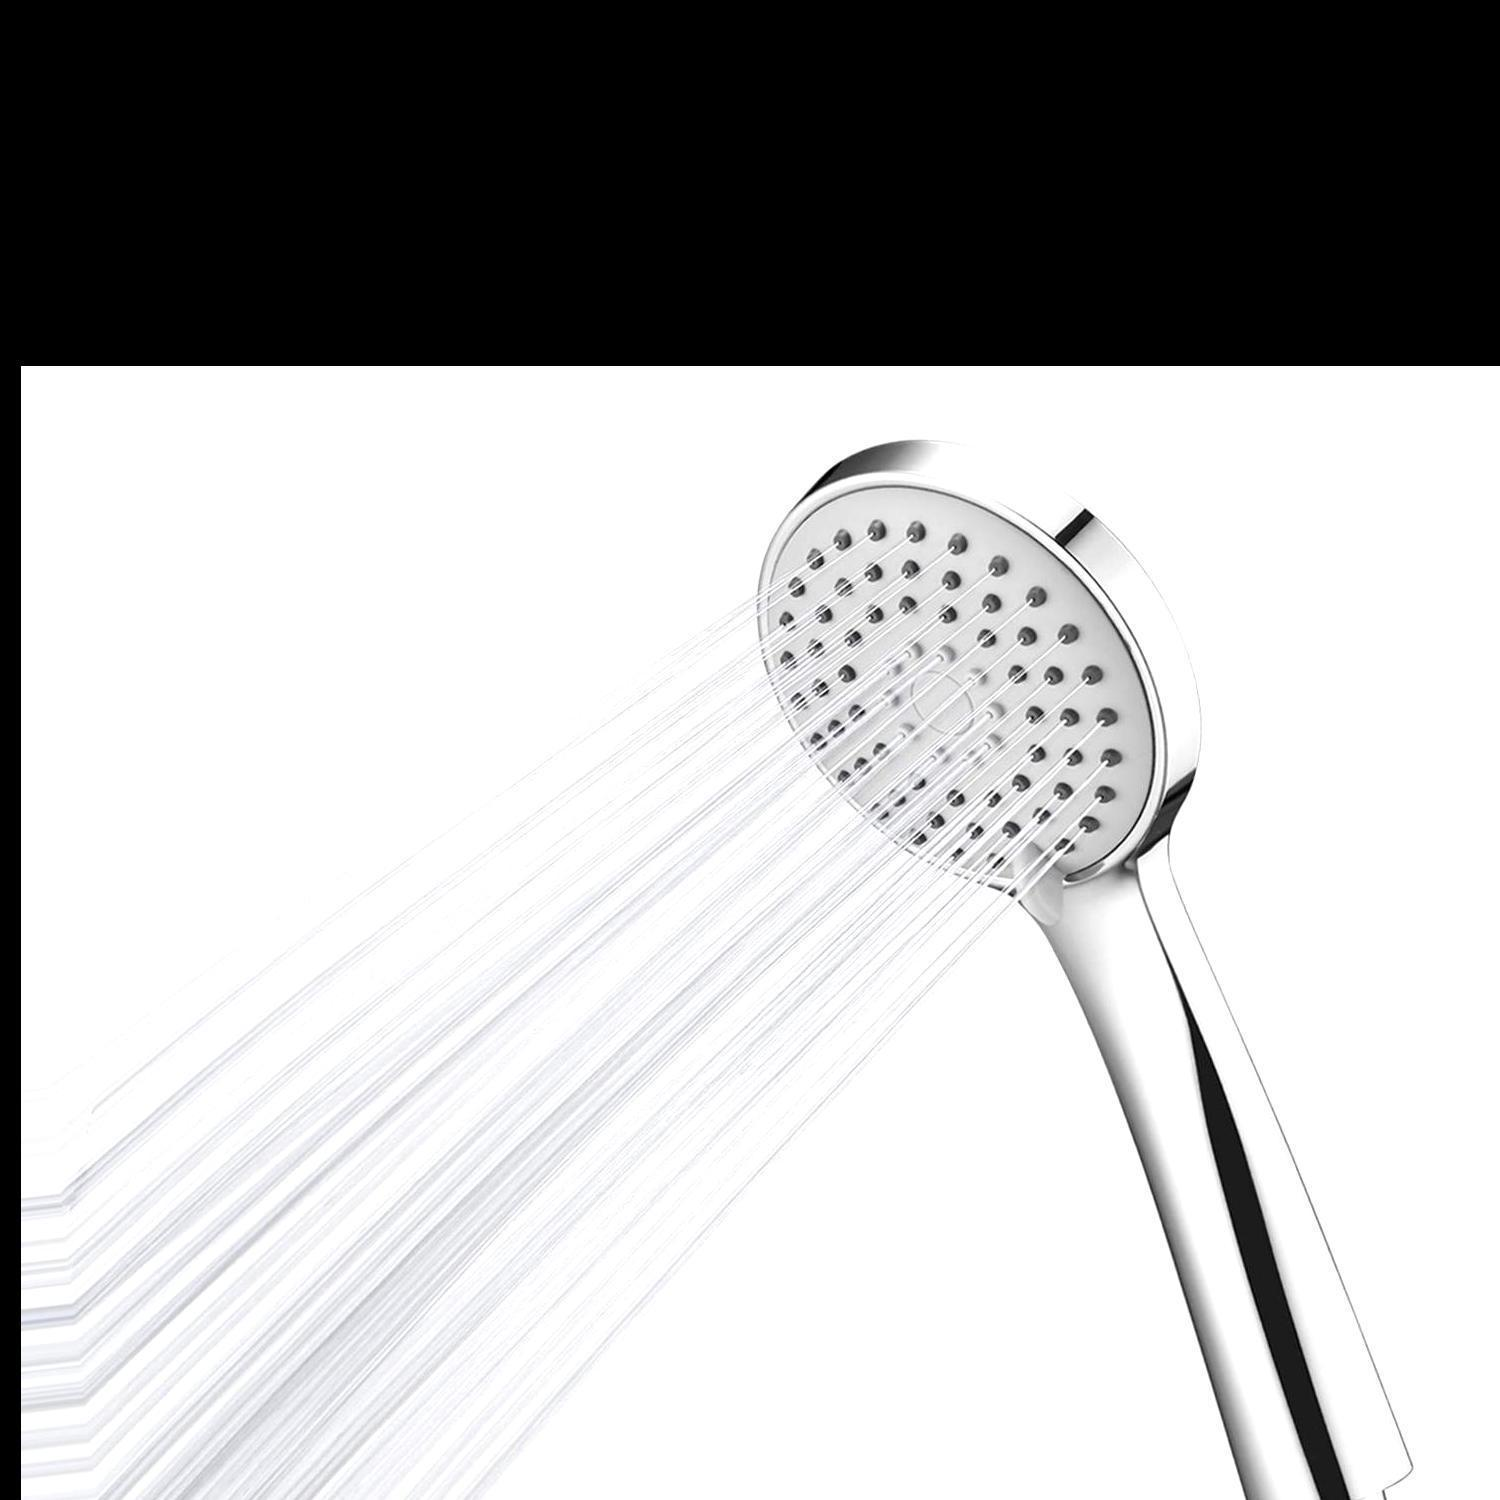Ducha: (21, 433, 1500, 1500)
